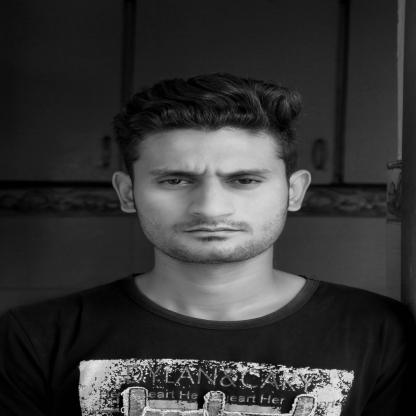Eye: (225, 174, 267, 190), (152, 175, 198, 189)
Mouth: (181, 226, 245, 237)
Nose: (186, 178, 237, 217)
